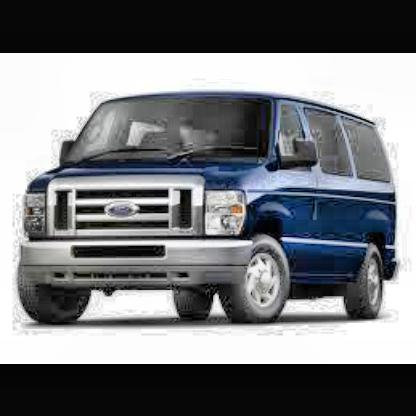Ford E-Series Wagon Van 2012: (18, 93, 401, 327)
